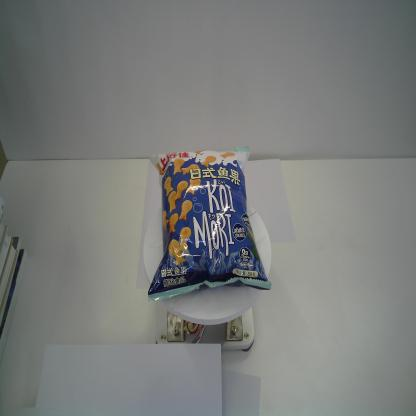Puffed Food: (148, 146, 272, 302)
